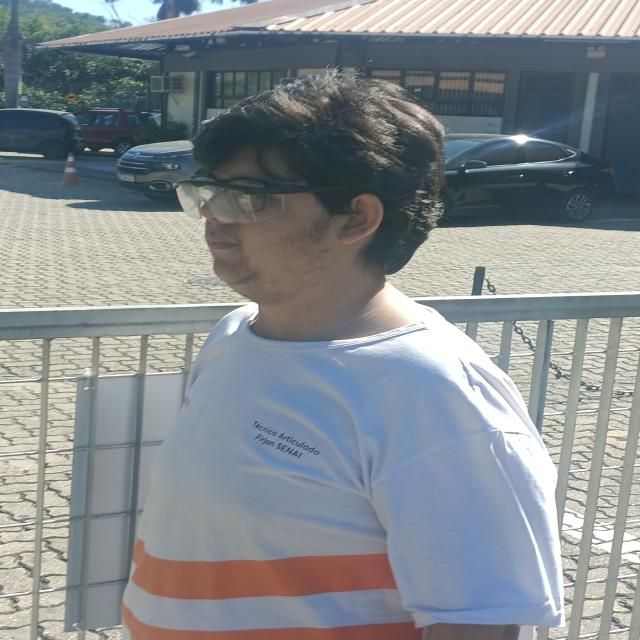oculos-epi: (175, 181, 343, 224)
